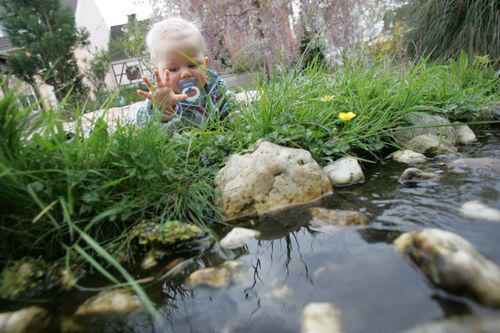child: (120, 12, 250, 140)
